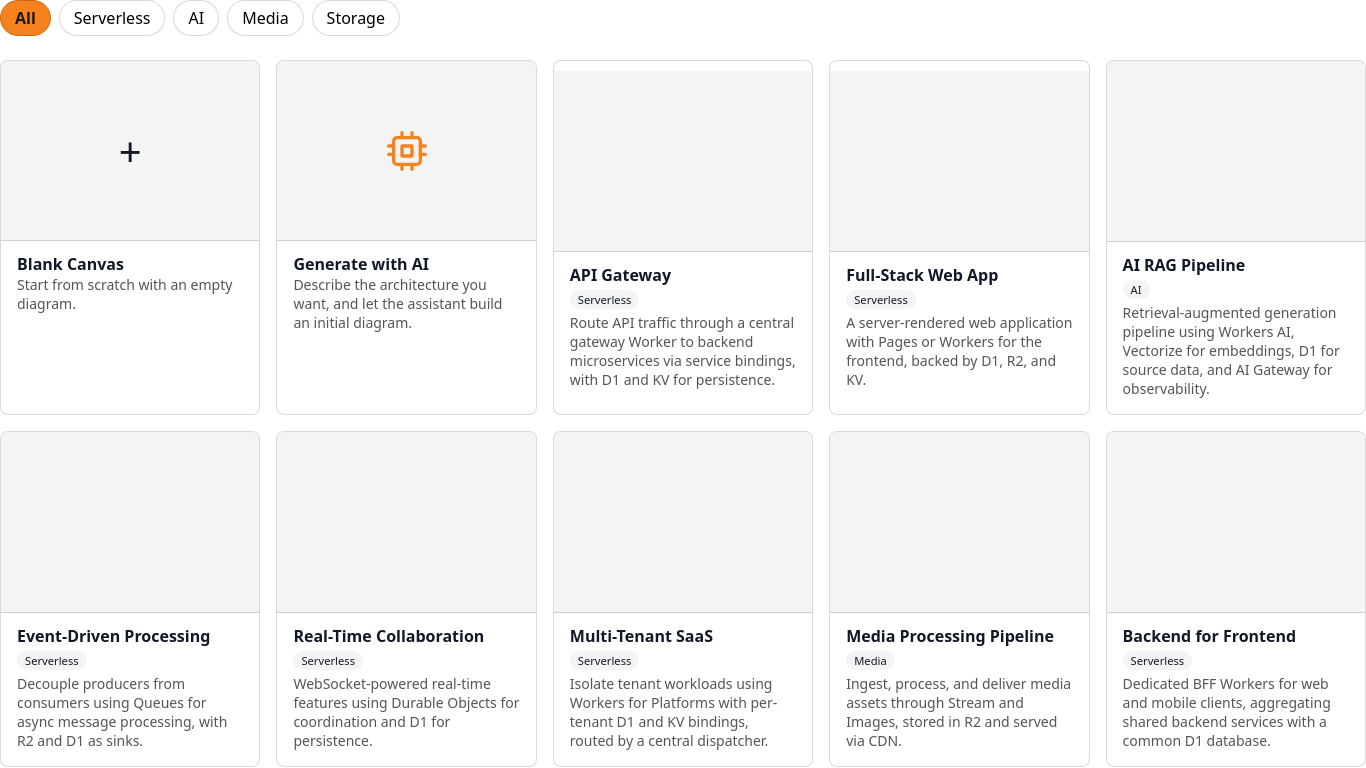
Test: BlueprintGallery › filtering › narrows the grid to Serverless and hides the rest
Click the tab "Serverless".
click(112, 18)  # box [59,0,166,36]
(page scrolled)
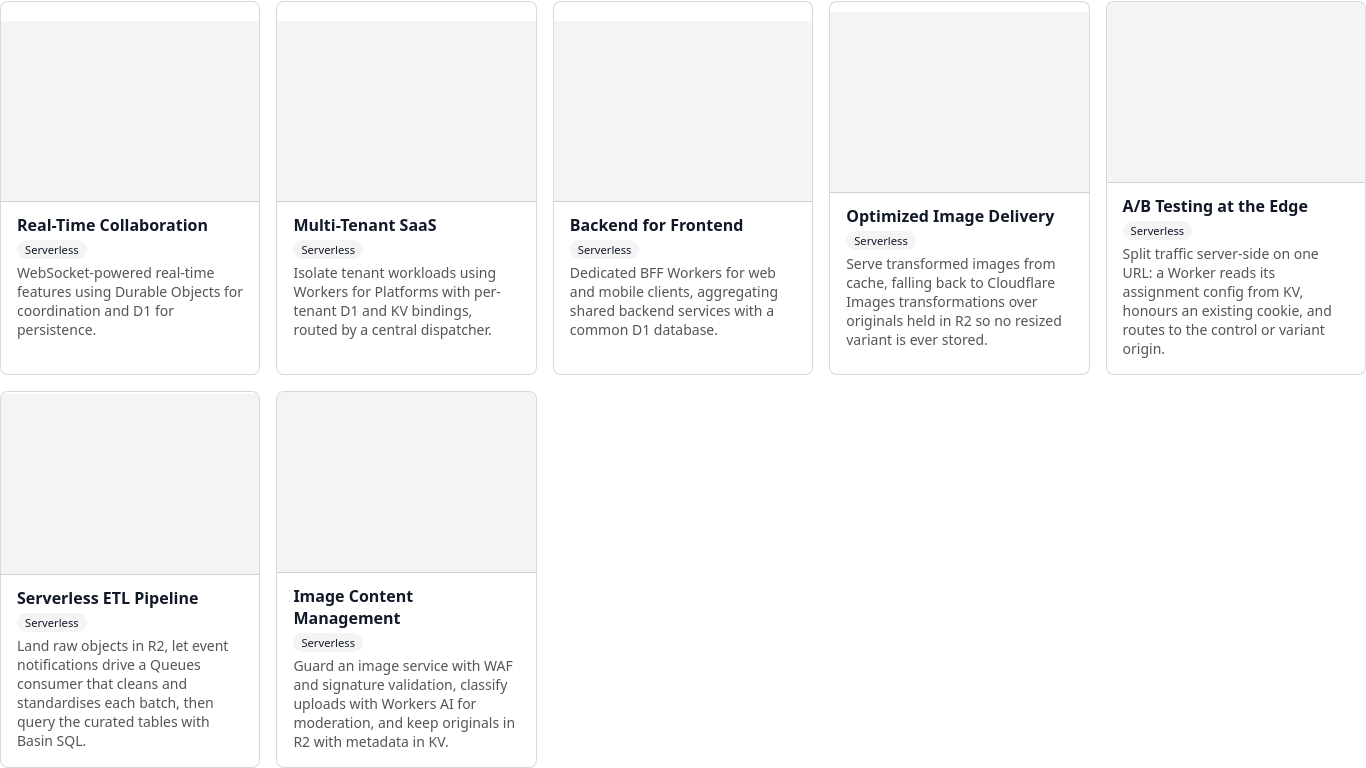
expect the button "Real-Time Collaboration" is shown: met, box [0,1,260,375]
expect the button "AI RAG Pipeline" is gone: met
expect the button "Media Processing Pipeline" is gone: met
